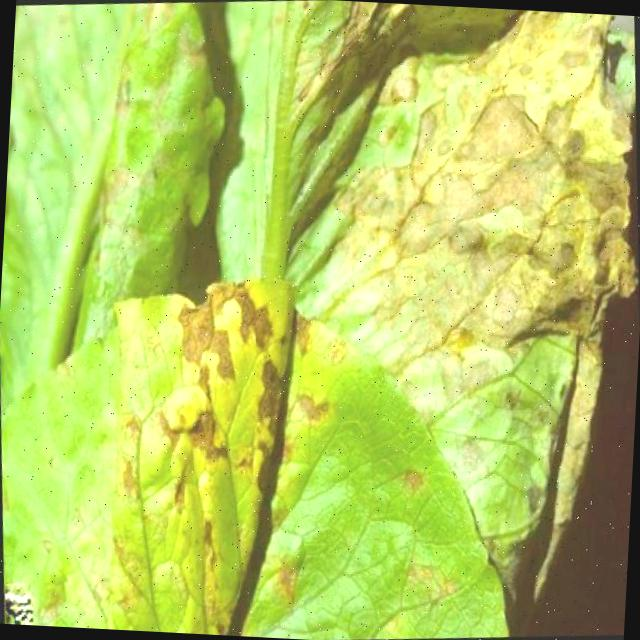Septoria_Blight: (368, 86, 610, 363)
